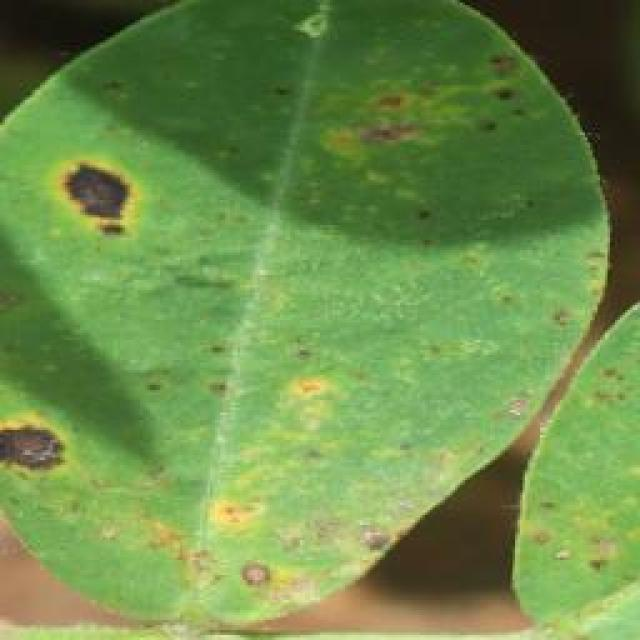Sigatoka: (118, 435, 403, 605), (387, 168, 603, 314), (532, 337, 640, 606), (46, 116, 168, 265), (429, 14, 554, 154), (249, 317, 361, 453), (314, 55, 422, 186), (0, 381, 97, 503)
